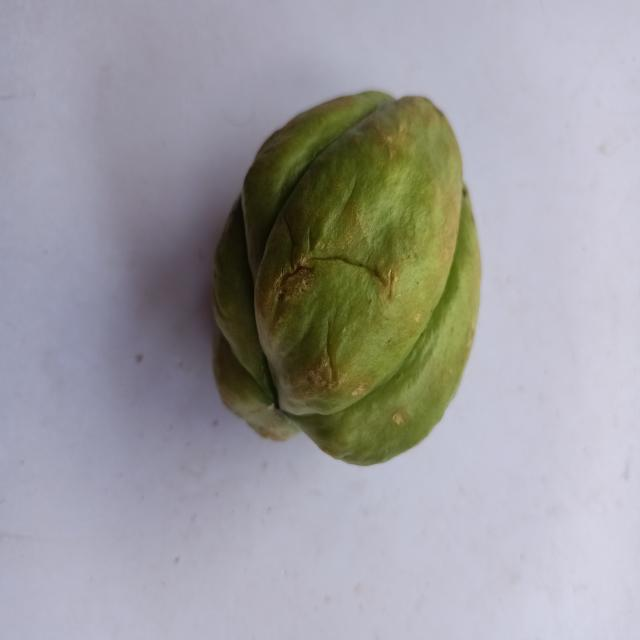Chayote: (188, 70, 497, 493)
